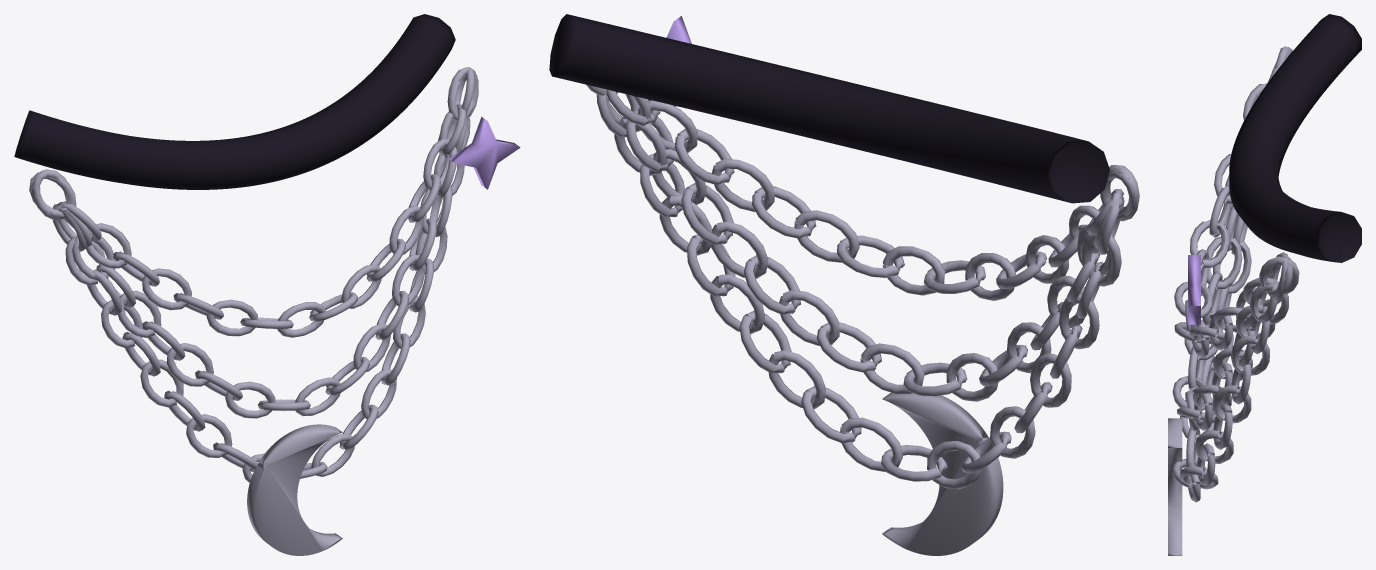
File: echo_chest_jewellery.glb
The picture shows the model from 3 angles, left to right: view 1: azimuth 30°, elevation 25°; view 2: azimuth 150°, elevation 25°; view 3: azimuth 270°, elevation 25°; orthographic projection. The views are drawn at different scales.
Parts seen in each view (by area): view 1: echo_chest_jewellery; view 2: echo_chest_jewellery; view 3: echo_chest_jewellery.
Boxes of the visible parts, x1,y1,x2,y2 form: echo_chest_jewellery: (14,14,520,555); echo_chest_jewellery: (549,14,1139,555); echo_chest_jewellery: (1168,14,1361,555).
Size of the model in its own units: 0.3277 by 0.3 by 0.1211.
